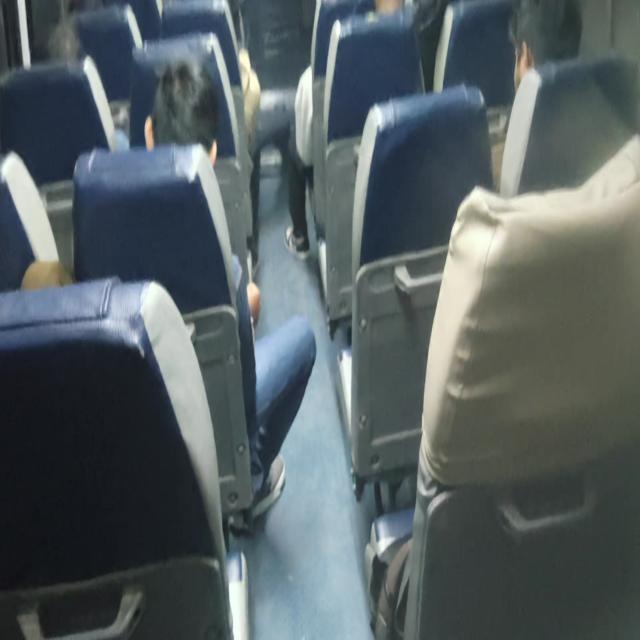person: (147, 71, 224, 188), (508, 0, 574, 90), (29, 11, 89, 87)
